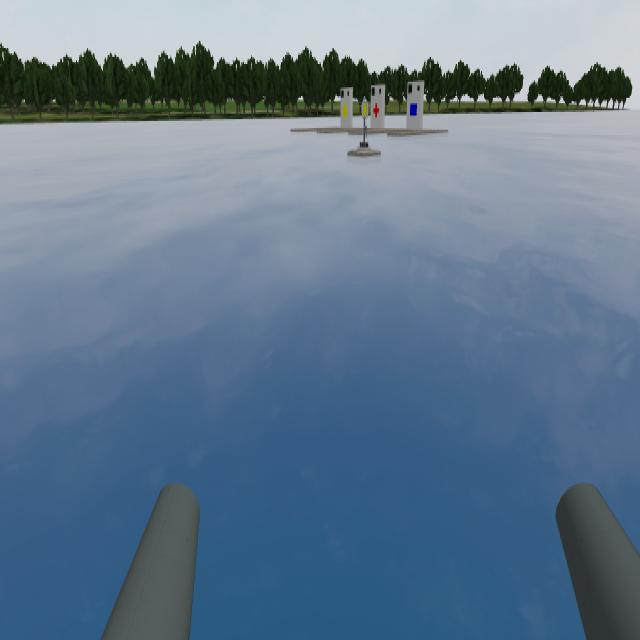yellow_pole: (360, 93, 373, 133)
